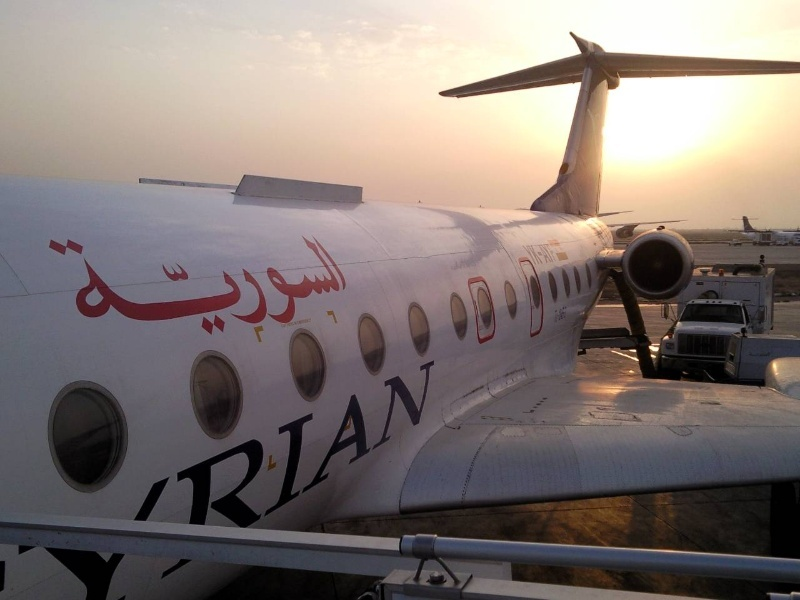text: (17, 355, 32, 600), (33, 355, 48, 600), (49, 355, 64, 600), (65, 355, 80, 600), (81, 355, 96, 600), (97, 355, 112, 600), (113, 355, 128, 600), (129, 355, 144, 600), (145, 355, 160, 600), (161, 355, 176, 600), (177, 355, 192, 600), (193, 355, 208, 600), (209, 355, 224, 600), (225, 355, 240, 600), (241, 355, 256, 600), (257, 355, 272, 600), (273, 355, 288, 600), (289, 355, 304, 600), (305, 355, 320, 600), (321, 355, 336, 600), (337, 355, 352, 600), (353, 355, 368, 600), (369, 355, 384, 600), (385, 355, 400, 600), (401, 355, 416, 600), (417, 355, 432, 600), (4, 355, 16, 600), (49, 219, 64, 358), (65, 219, 80, 358), (81, 219, 96, 358), (97, 219, 112, 358), (113, 219, 128, 358), (129, 219, 144, 358), (145, 219, 160, 358), (161, 219, 176, 358), (177, 219, 192, 358), (193, 219, 208, 358), (209, 219, 224, 358), (225, 219, 240, 358), (241, 219, 256, 358), (257, 219, 272, 358), (273, 219, 288, 358), (289, 219, 304, 358), (305, 219, 320, 358), (321, 219, 336, 358), (337, 219, 352, 358), (433, 355, 441, 600), (353, 219, 367, 358), (44, 219, 48, 358), (529, 241, 544, 267), (545, 241, 559, 267), (561, 303, 570, 326), (553, 303, 560, 326), (522, 241, 528, 267)
